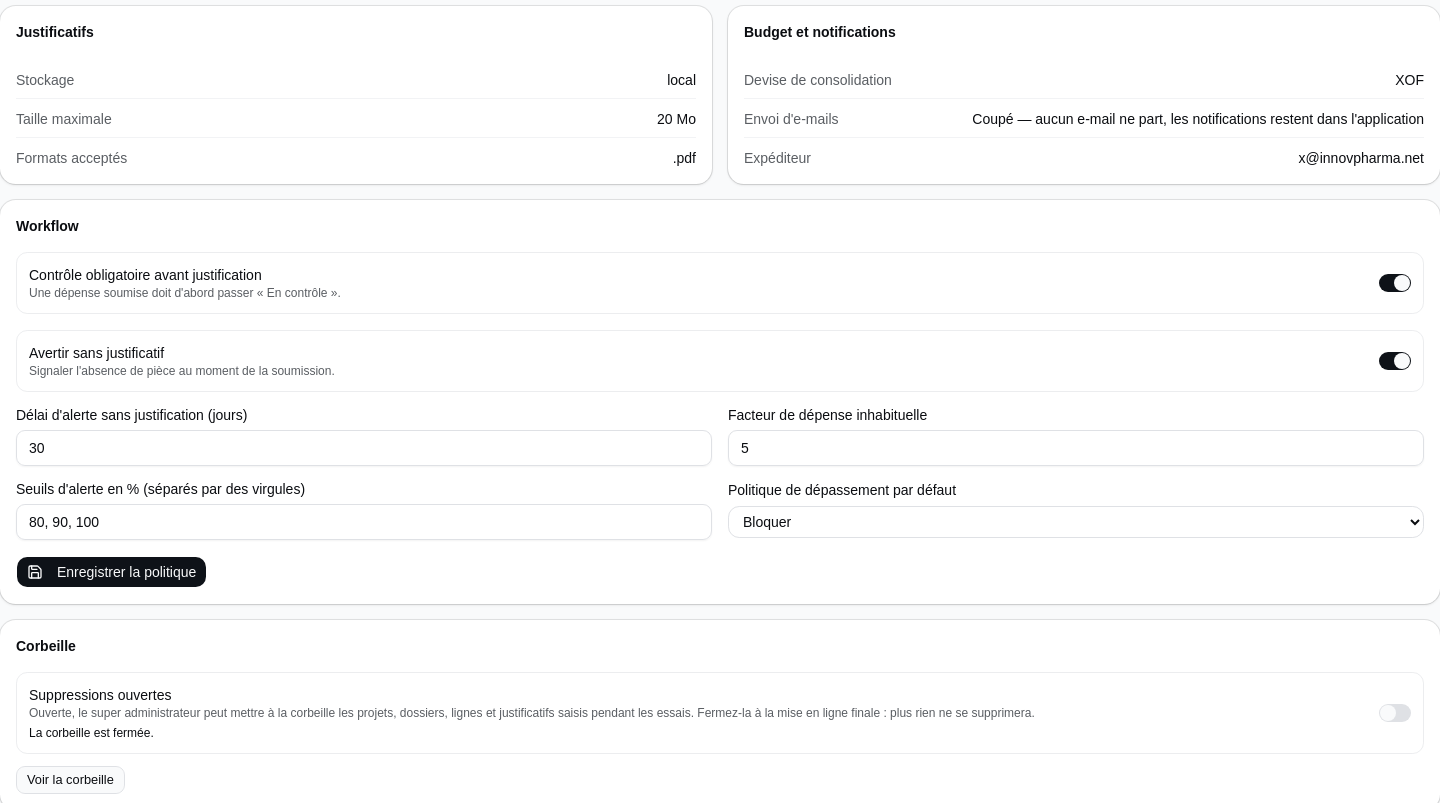
Scenario: GeneralSection — politique › relit le profil après l'enregistrement
The width and height of the screenshot is (1440, 803).
(page scrolled)
Click the button "Enregistrer la politique": {"x": 112, "y": 572} [16,556,207,588]
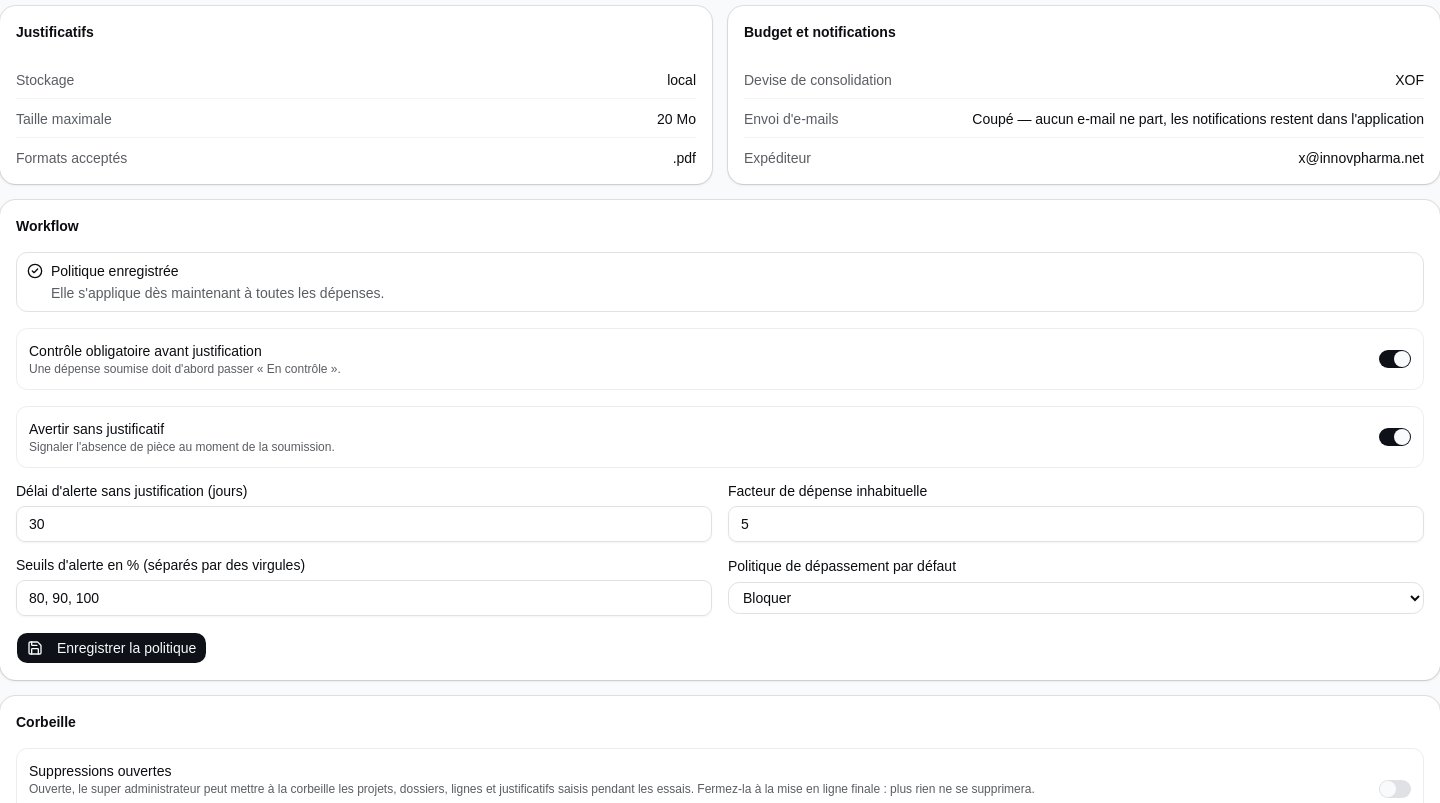
Expected: the text "Politique enregistrée" is shown, [51,263,179,279]
